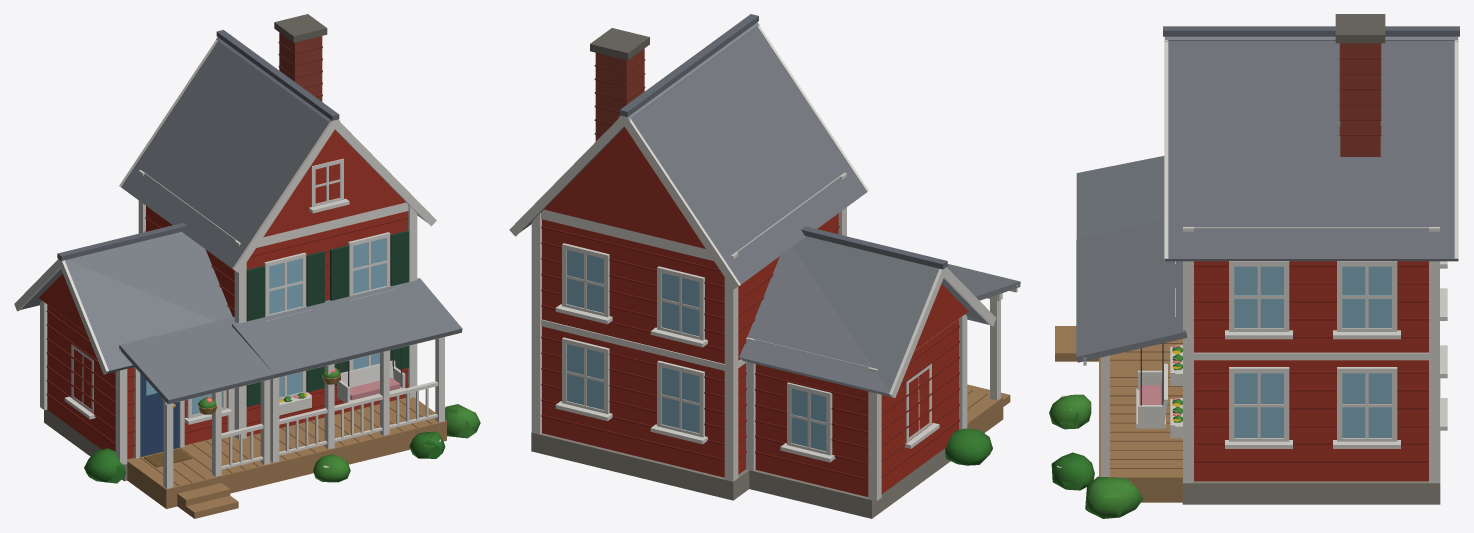
Rendered from farmhouse-1.glb.
3 views of the same model, side by side, from view 1: azimuth 30°, elevation 25°; view 2: azimuth 150°, elevation 25°; view 3: azimuth 270°, elevation 25° (orthographic). The views are drawn at different scales.
Parts seen in each view (by area): view 1: building-farmhouse-1, building-farmhouse-1-far; view 2: building-farmhouse-1, building-farmhouse-1-far; view 3: building-farmhouse-1, building-farmhouse-1-far.
Boxes of the visible parts, box(x1,y1,x2,y2) form: building-farmhouse-1: box(14, 14, 480, 518); building-farmhouse-1-far: box(71, 159, 478, 483); building-farmhouse-1: box(509, 14, 1020, 518); building-farmhouse-1-far: box(562, 245, 991, 465); building-farmhouse-1: box(1049, 14, 1459, 518); building-farmhouse-1-far: box(1050, 262, 1396, 516).
Bounding box in the file's own units: 7.86 × 7.6 × 6.28.
